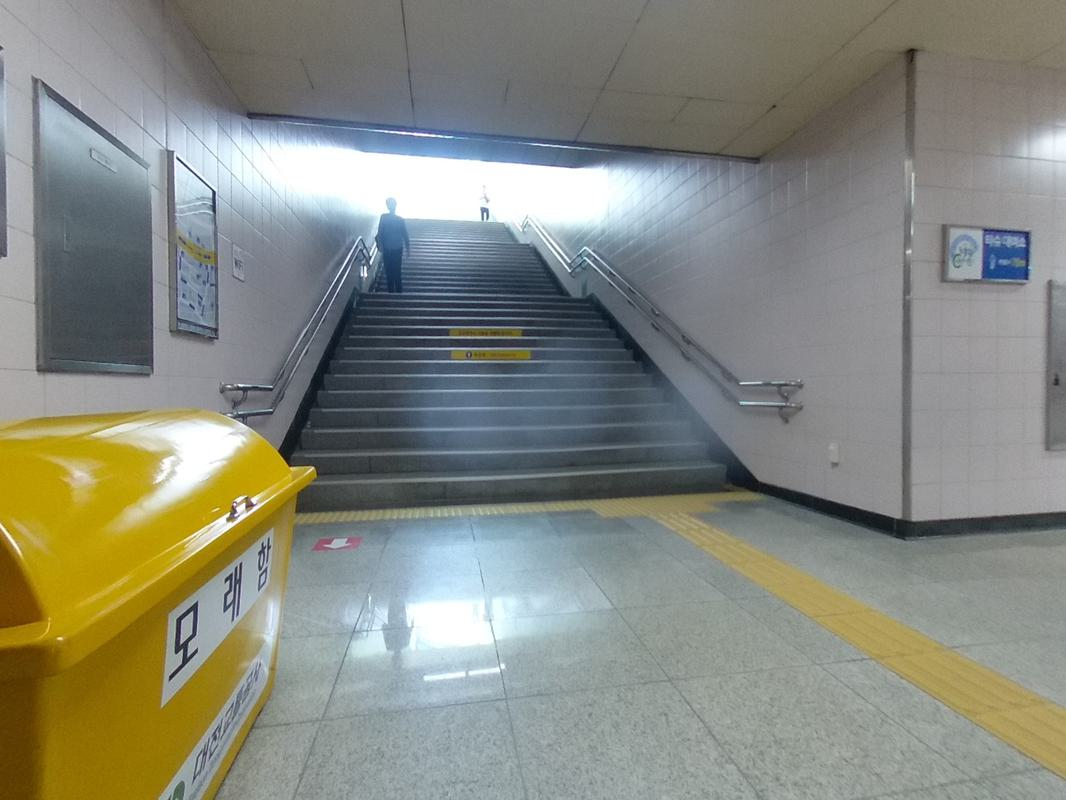building: (2, 1, 1060, 797)
car: (1, 406, 318, 796)
closed door: (31, 70, 155, 376)
door: (31, 80, 155, 376)
man: (372, 196, 411, 294)
person: (372, 186, 411, 294), (475, 183, 492, 222)
rail: (516, 211, 805, 420), (220, 236, 371, 425)
stairs: (283, 207, 731, 509), (292, 458, 732, 511)
stairwell: (283, 217, 731, 509)
subway station: (2, 0, 1060, 797)
subway ticket gate: (220, 226, 371, 425)
woman: (475, 173, 492, 222)
